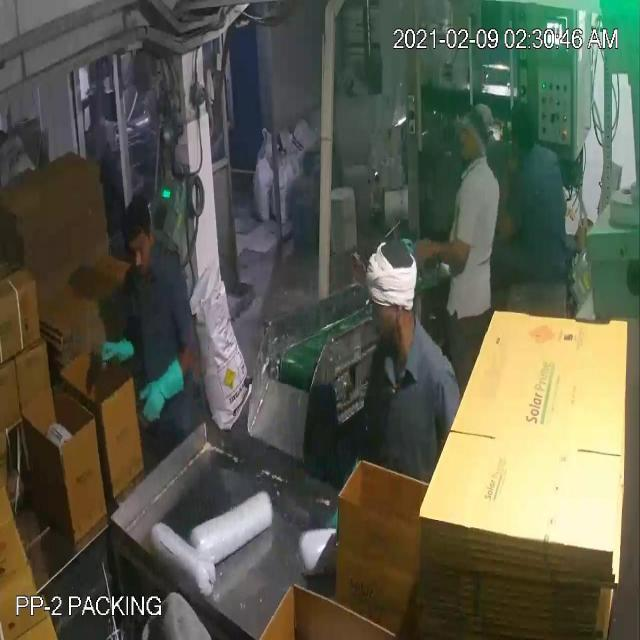Gloves: (48, 57, 437, 390)
